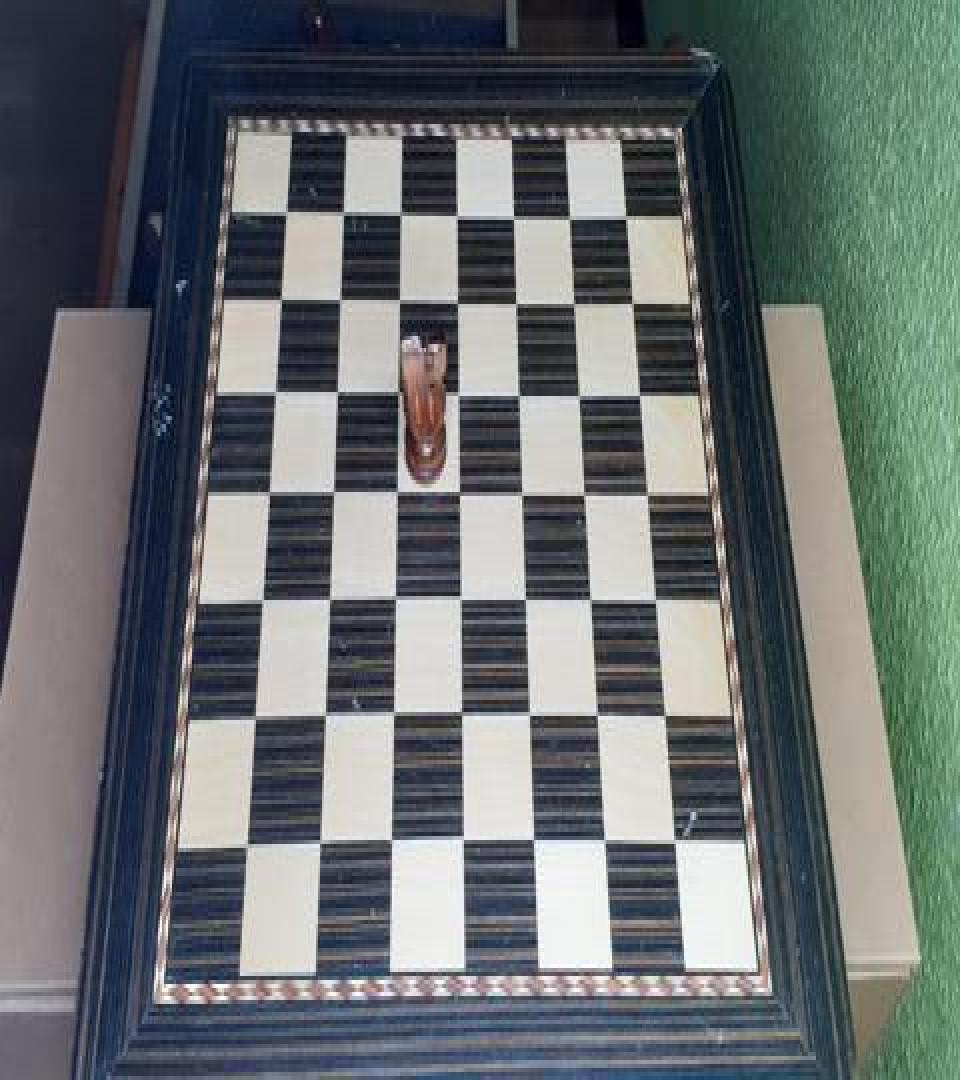xcorner: (275, 184, 293, 220), (269, 272, 287, 308), (264, 366, 282, 402), (257, 468, 275, 504), (250, 578, 268, 614), (243, 698, 261, 734), (235, 830, 253, 866), (333, 184, 351, 220), (329, 272, 347, 308), (326, 366, 344, 402), (322, 468, 340, 504), (318, 578, 336, 614), (313, 698, 331, 734), (308, 828, 326, 864), (390, 186, 408, 222), (389, 272, 407, 308), (388, 366, 406, 402), (386, 468, 404, 504), (385, 578, 403, 614), (383, 698, 401, 734), (381, 826, 399, 862), (448, 186, 466, 222), (449, 274, 467, 310), (450, 368, 468, 404), (451, 468, 469, 504), (452, 578, 470, 614), (453, 696, 471, 732), (454, 826, 472, 862), (505, 186, 523, 222), (508, 274, 526, 310), (511, 368, 529, 404), (514, 468, 532, 504), (518, 578, 536, 614), (522, 696, 540, 732), (526, 824, 544, 860), (562, 188, 580, 224), (567, 274, 585, 310), (572, 368, 590, 404), (578, 468, 596, 504), (584, 578, 602, 614), (591, 696, 609, 732), (598, 824, 616, 860), (618, 188, 636, 224), (625, 274, 643, 310), (633, 368, 651, 404), (641, 468, 659, 504), (650, 576, 668, 612), (659, 694, 677, 730), (670, 822, 688, 858)
